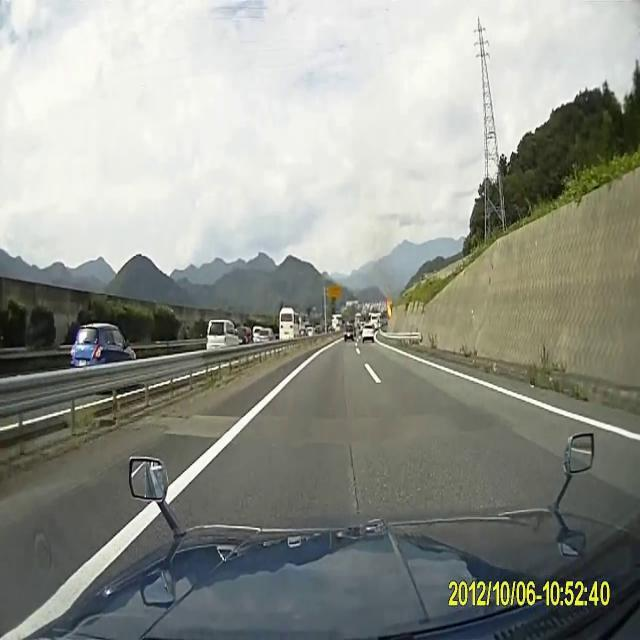Fire: (386, 298, 392, 316)
